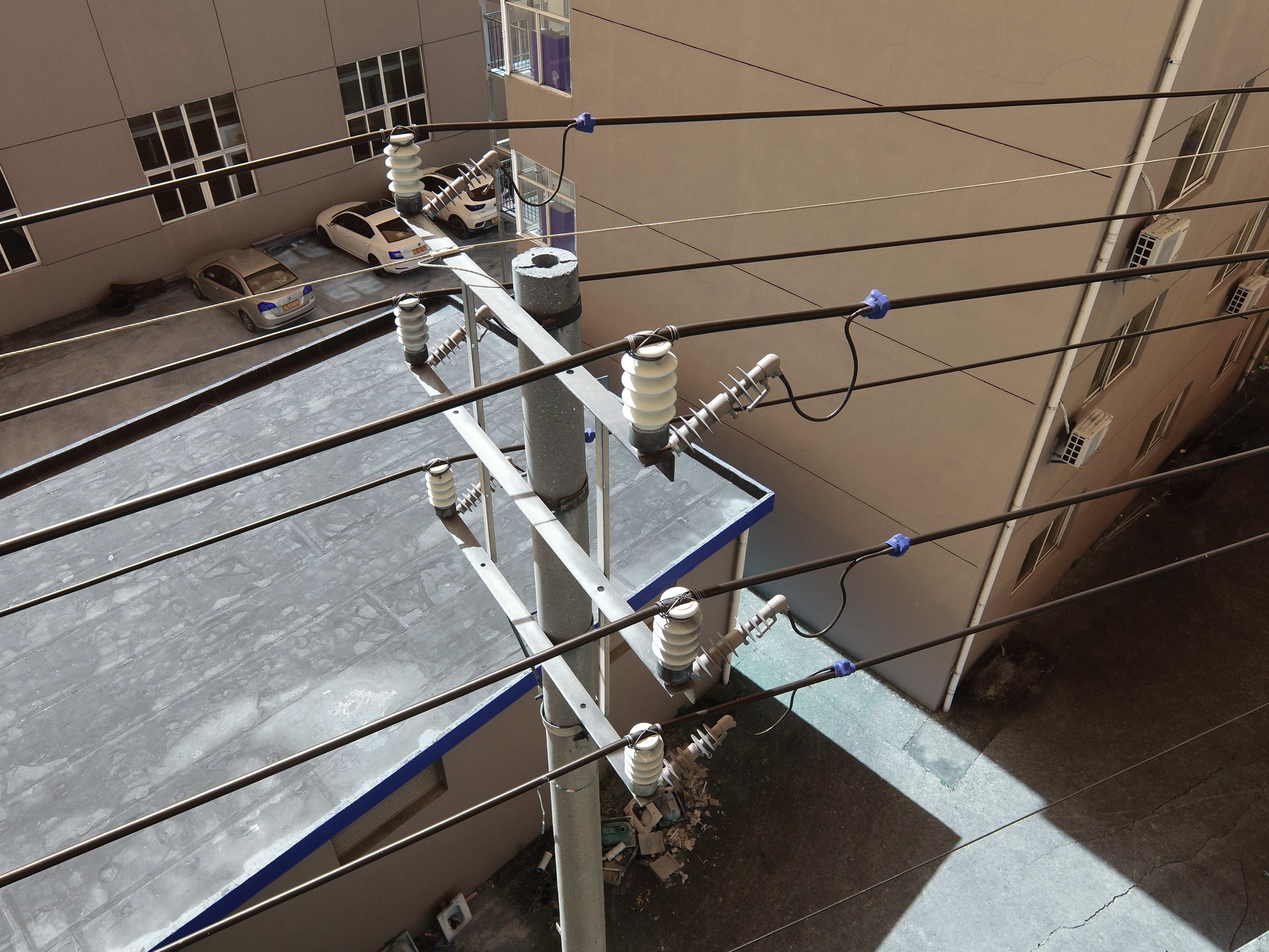severe_soiling_no_discharge_whole: (649, 583, 705, 687)
